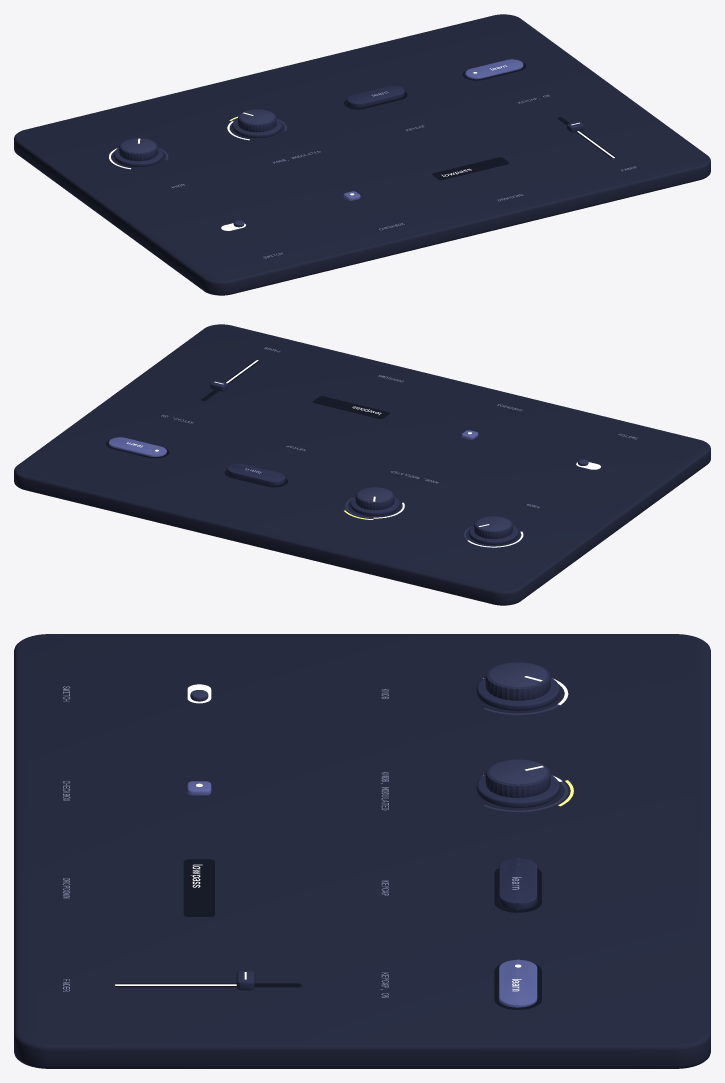
The model's file is controls_kit.glb.
3 views of the same model, one above another, from view 1: azimuth 30°, elevation 25°; view 2: azimuth 150°, elevation 25°; view 3: azimuth 270°, elevation 25° (orthographic). The views are drawn at different scales.
Parts seen in each view (by area): view 1: kit_plate, kb1, kb2, kd; view 2: kit_plate, kb1, kb2, kd; view 3: kit_plate, kb1, kd, kb2, kk1_top, kk2_top, kk1_skirt, kk2_skirt, kk2_cap, kk1_cap, kf_rail.
Part boxes in pixels (x1,y1,x2,y2): kit_plate: (14, 14, 710, 295); kb1: (346, 85, 404, 107); kb2: (465, 59, 523, 79); kd: (432, 157, 508, 180); kit_plate: (14, 324, 710, 605); kb1: (227, 463, 285, 485); kb2: (108, 437, 166, 456); kd: (313, 396, 389, 418); kit_plate: (14, 634, 710, 1068); kb1: (499, 857, 537, 910); kd: (183, 859, 214, 916); kb2: (499, 959, 537, 1007); kk1_top: (489, 662, 547, 687); kk2_top: (489, 759, 547, 784); kk1_skirt: (476, 677, 559, 710); kk2_skirt: (476, 774, 559, 807); kk2_cap: (485, 759, 550, 797); kk1_cap: (485, 662, 550, 700); kf_rail: (115, 983, 301, 987).
Size of the model in its own units: 0.66 by 0.0325 by 0.47.
